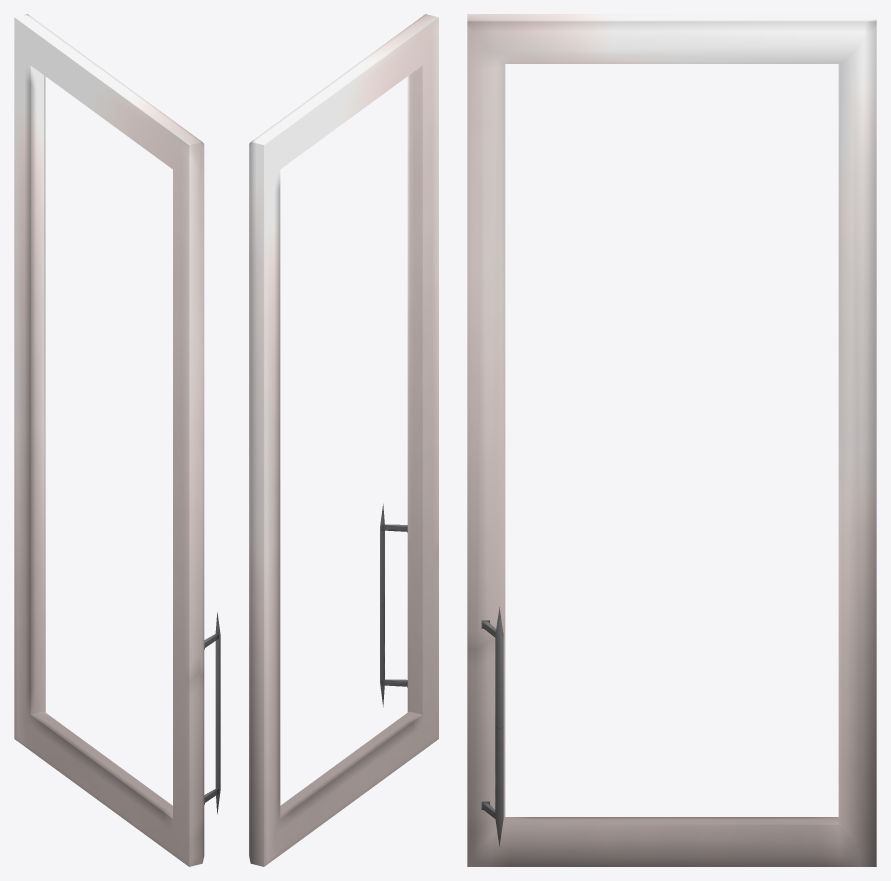
The model's file is kitchencupboard_doorWindow_R.glb.
The picture shows the model from 3 angles, left to right: view 1: azimuth 30°, elevation 25°; view 2: azimuth 150°, elevation 25°; view 3: azimuth 270°, elevation 25°; orthographic projection. The views are drawn at different scales.
Parts seen in each view (by area): view 1: RC_Furn_CabinetTopShelfDoor2; view 2: RC_Furn_CabinetTopShelfDoor2; view 3: RC_Furn_CabinetTopShelfDoor2.
Boxes of the visible parts, bbox=[...] form: RC_Furn_CabinetTopShelfDoor2: bbox=[14, 14, 220, 866]; RC_Furn_CabinetTopShelfDoor2: bbox=[249, 14, 438, 866]; RC_Furn_CabinetTopShelfDoor2: bbox=[467, 14, 876, 866].
Bounding box in the file's own units: 0.1559 × 2.38 × 1.04.
1 material, 1 textured.
